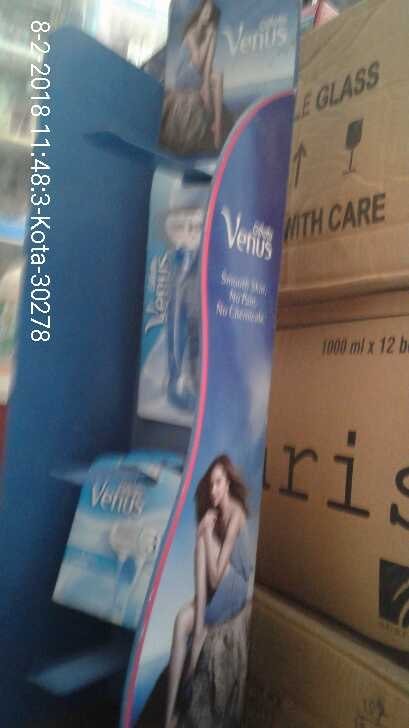venus: (52, 446, 177, 631), (137, 182, 217, 418)
